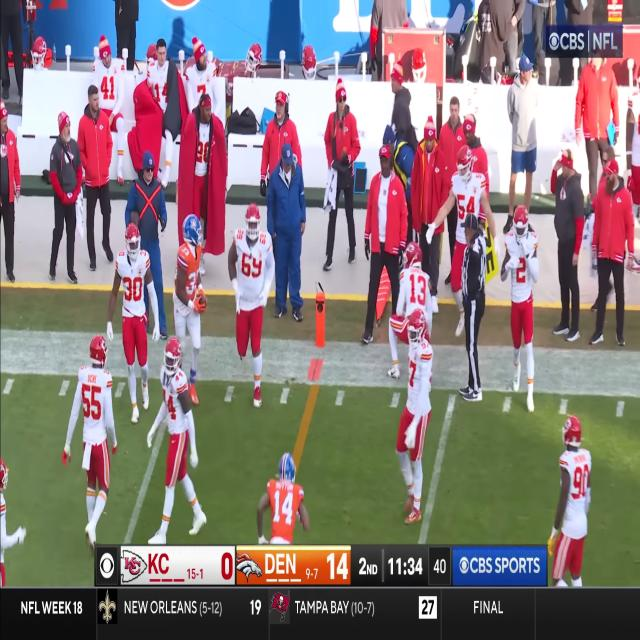Player: (74, 334, 117, 548), (500, 205, 541, 412), (396, 309, 434, 524), (158, 336, 196, 547), (234, 202, 270, 411), (552, 416, 595, 590), (115, 222, 151, 423), (256, 454, 312, 545), (171, 209, 206, 335), (388, 244, 436, 321), (452, 146, 483, 214)
Referee: (455, 214, 492, 403)
